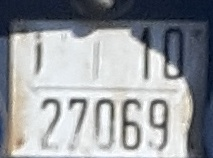0: (162, 25, 185, 83), (94, 97, 115, 152)
1: (138, 24, 155, 82)
2: (38, 97, 62, 151)
6: (121, 97, 143, 152)
7: (67, 96, 89, 152)
9: (148, 97, 169, 152)
a: (31, 30, 47, 76)
